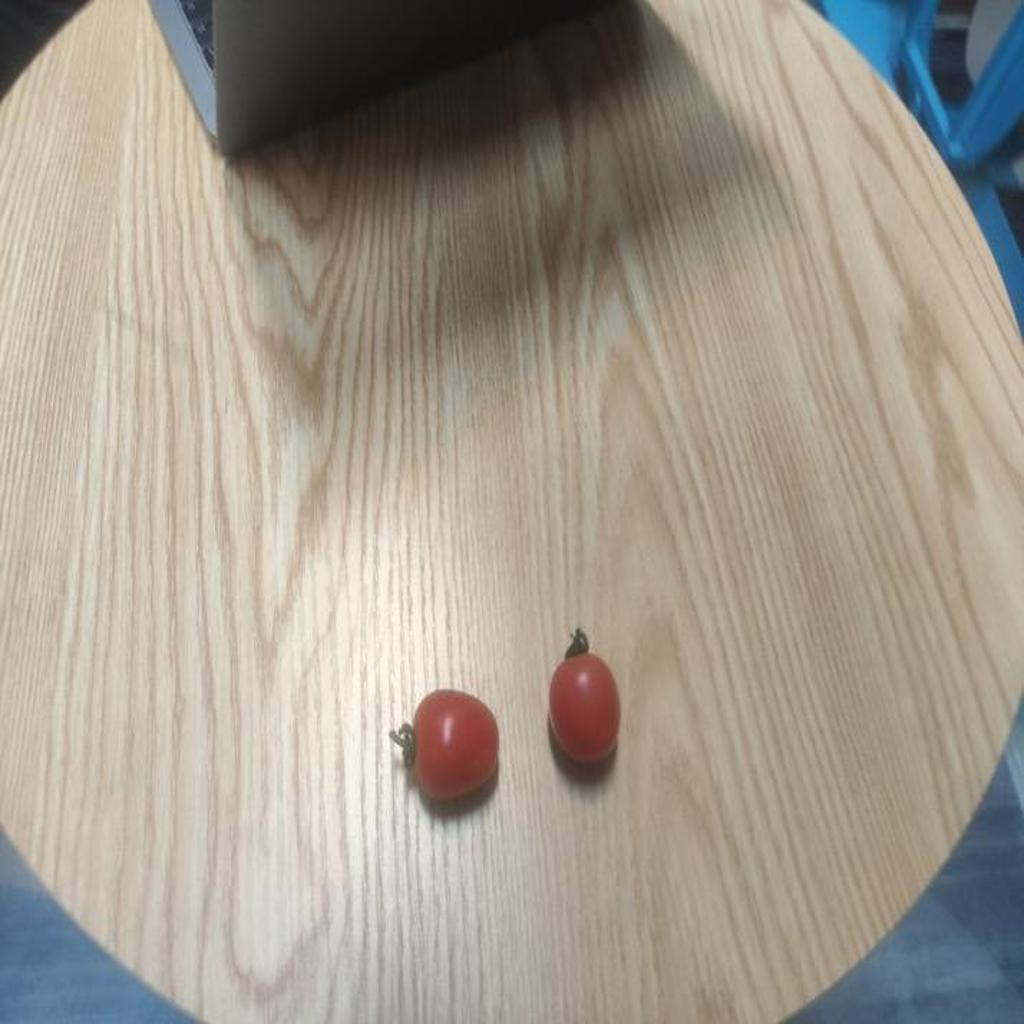tomato: (397, 687, 502, 817), (544, 636, 624, 774)
